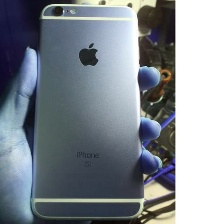phone: (26, 1, 146, 223)
